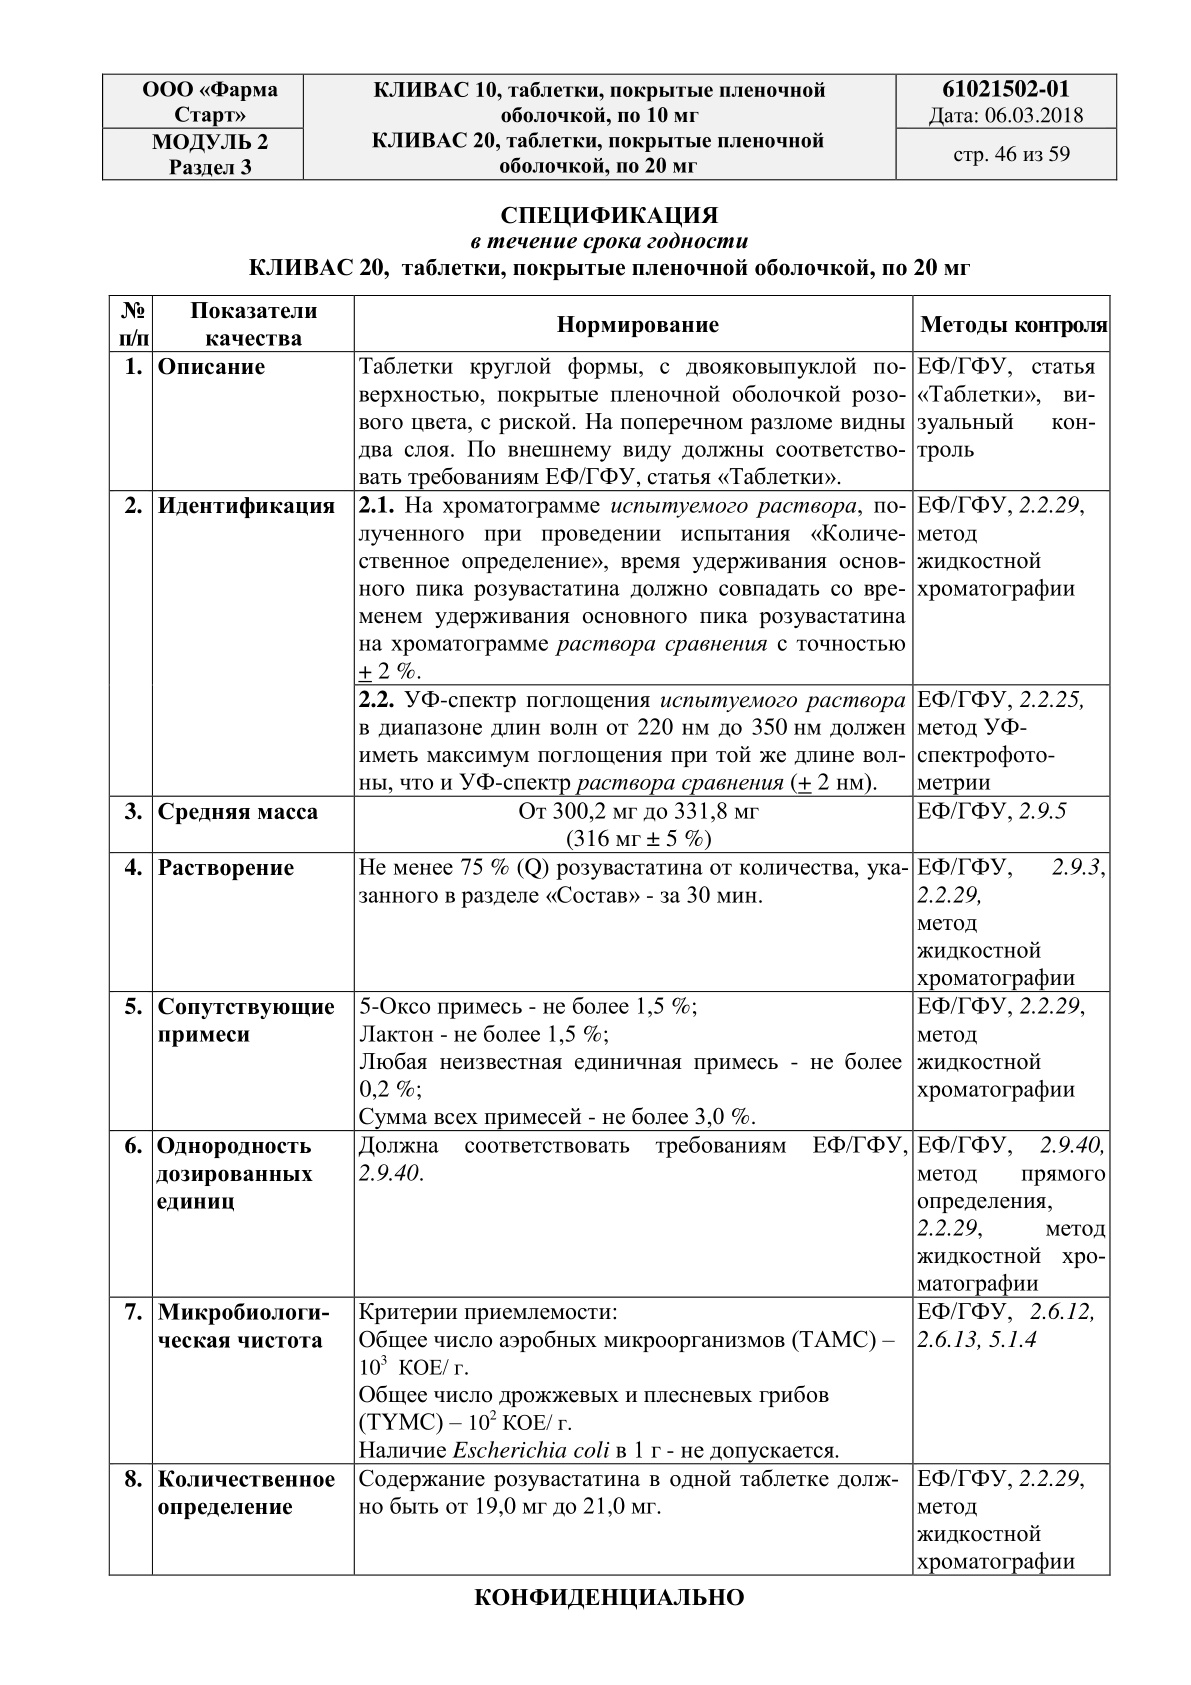merged_cells: (107, 294, 1111, 1575), (101, 72, 1118, 180)
